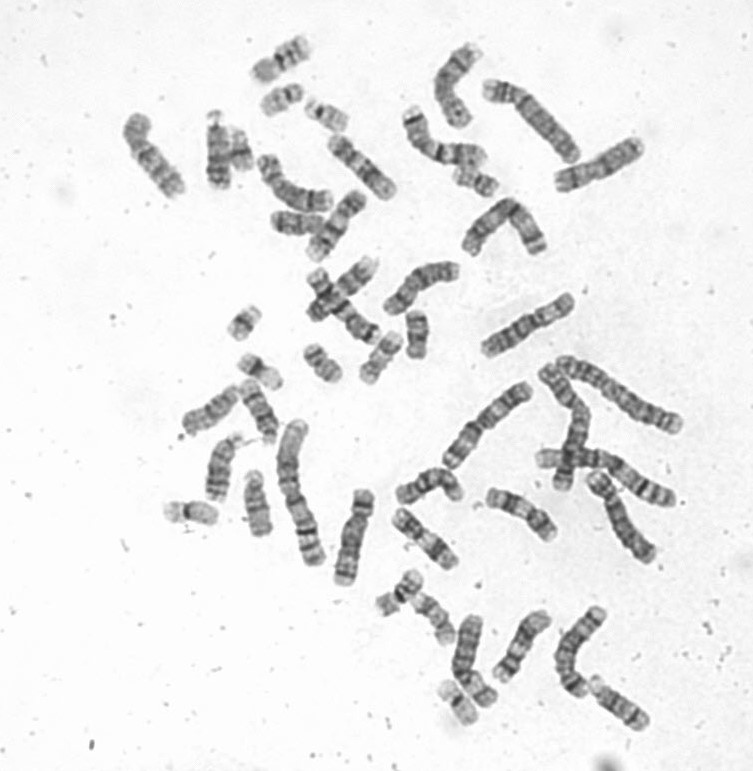chromosomes: (548, 348, 687, 442), (479, 76, 604, 173), (533, 443, 686, 518), (441, 379, 537, 474), (277, 417, 335, 571), (529, 363, 597, 492), (584, 467, 664, 570), (471, 290, 582, 362), (117, 100, 191, 206), (543, 135, 661, 194), (396, 99, 496, 168), (322, 129, 408, 208), (458, 195, 551, 268), (305, 269, 389, 347), (552, 604, 615, 703), (301, 184, 373, 270), (447, 609, 505, 715), (306, 250, 385, 325), (381, 256, 472, 319), (252, 150, 342, 213), (432, 38, 489, 137), (329, 485, 380, 594), (489, 610, 559, 687), (390, 503, 463, 575), (486, 485, 565, 548), (169, 382, 243, 444), (587, 669, 655, 736), (195, 429, 249, 506), (244, 35, 323, 87), (234, 347, 298, 401), (237, 374, 282, 450), (377, 563, 431, 624), (391, 462, 469, 504), (202, 106, 235, 199), (409, 585, 458, 647), (303, 94, 363, 143), (446, 159, 508, 206), (359, 329, 405, 387), (436, 675, 485, 729), (300, 333, 347, 389), (269, 206, 340, 241), (247, 467, 278, 547), (157, 500, 230, 530), (228, 125, 264, 182), (223, 300, 266, 346), (256, 80, 304, 119), (404, 309, 432, 363)
